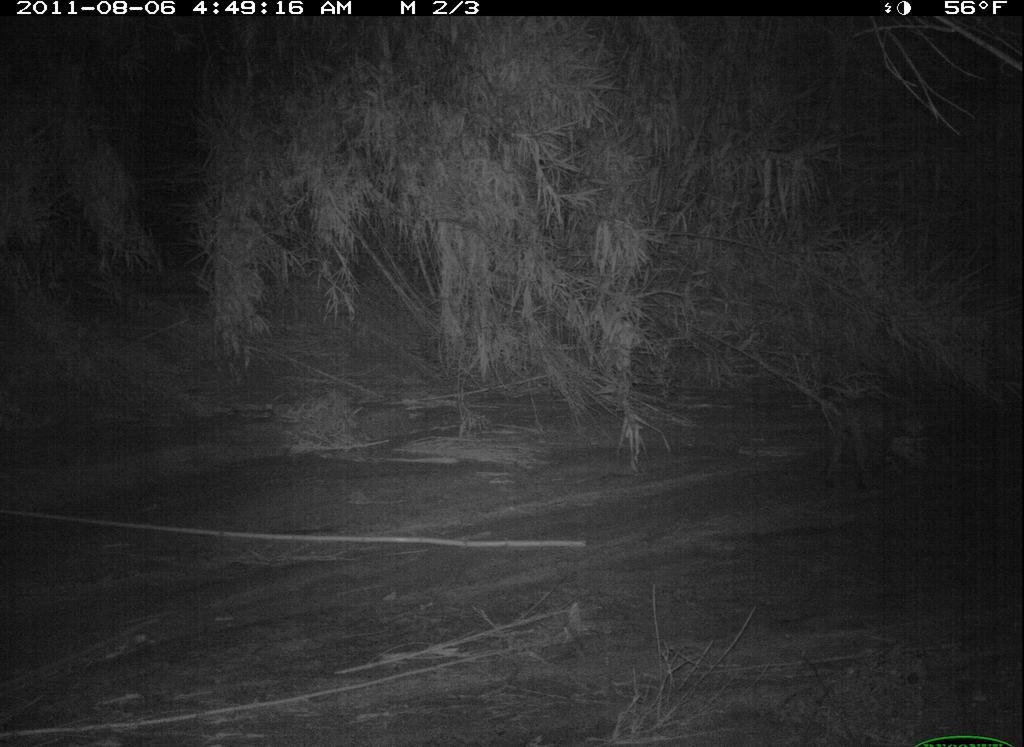bobcat: (818, 387, 962, 500)
